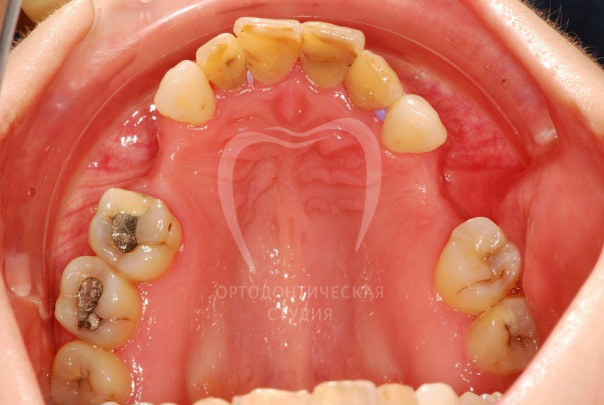UL1M_decay: (467, 306, 538, 370)
UL2BC_decay: (434, 215, 523, 306)
ULCI_healthy: (302, 21, 359, 90)
ULC_healthy: (381, 98, 447, 151)
ULLI_healthy: (350, 58, 400, 109)
UR1M_decay: (58, 264, 143, 344)
UR2BC_decay: (91, 184, 181, 275)
UR2M_decay: (60, 343, 129, 402)
URCI_decay: (238, 21, 302, 85)
URC_healthy: (156, 65, 218, 121)
URLI_decay: (201, 36, 244, 91)
